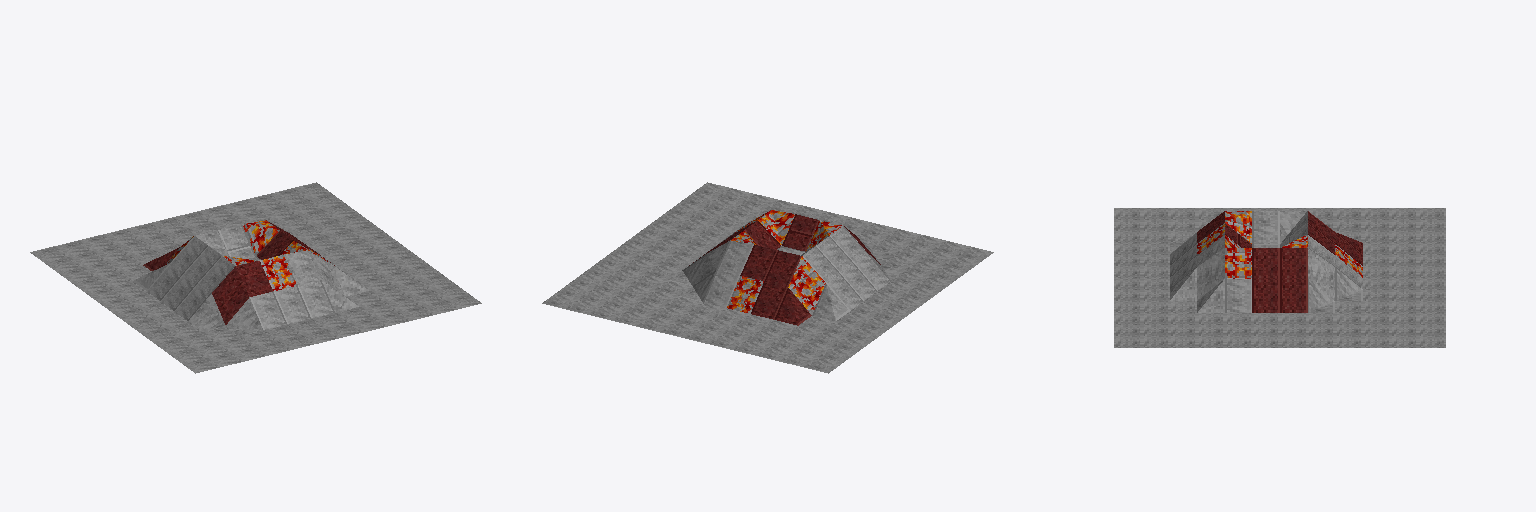
3 renders of one model, left to right at view 1: azimuth 30°, elevation 25°; view 2: azimuth 150°, elevation 25°; view 3: azimuth 270°, elevation 25°, orthographic.
Visible parts, largest first — view 1: centralRock_3; view 2: centralRock_3; view 3: centralRock_3.
Part boxes in pixels (x1,y1,x2,y2): centralRock_3: (30, 182, 481, 373); centralRock_3: (542, 182, 993, 373); centralRock_3: (1114, 208, 1445, 347).
Bounding box in the file's own units: 12 × 1.75 × 12.
9 materials, 9 textured.